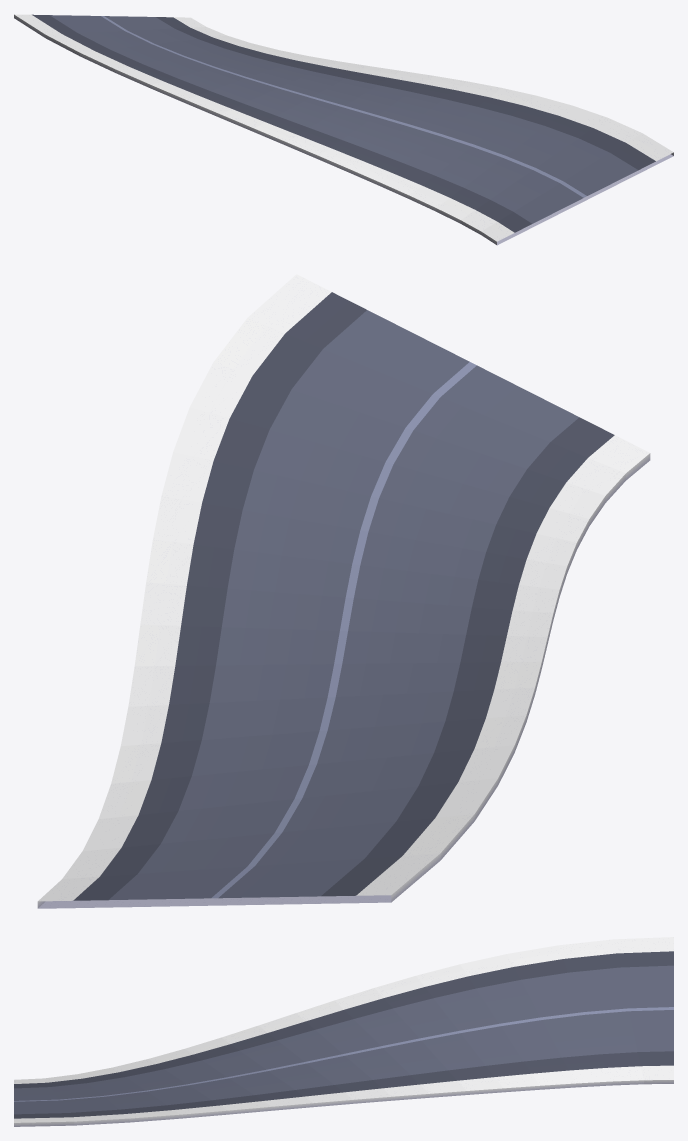
Rendered from road-Chicane-HalfBankedLeft-HalfBankedRight-Even-Left1-Size3.glb.
The picture shows the model from 3 angles, top to bottom: view 1: azimuth 30°, elevation 25°; view 2: azimuth 150°, elevation 25°; view 3: azimuth 270°, elevation 25°; orthographic projection. The views are drawn at different scales.
Parts seen in each view (by area): view 1: road-Chicane-HalfBankedLeft-HalfBankedRight-Even-Left1-Size3; view 2: road-Chicane-HalfBankedLeft-HalfBankedRight-Even-Left1-Size3; view 3: road-Chicane-HalfBankedLeft-HalfBankedRight-Even-Left1-Size3.
Boxes of the visible parts, bbox=[...] form: road-Chicane-HalfBankedLeft-HalfBankedRight-Even-Left1-Size3: bbox=[14, 14, 673, 245]; road-Chicane-HalfBankedLeft-HalfBankedRight-Even-Left1-Size3: bbox=[37, 274, 650, 908]; road-Chicane-HalfBankedLeft-HalfBankedRight-Even-Left1-Size3: bbox=[14, 937, 673, 1126].
Bounding box in the file's own units: 2 × 0.27 × 3.
1 material, 1 textured.
